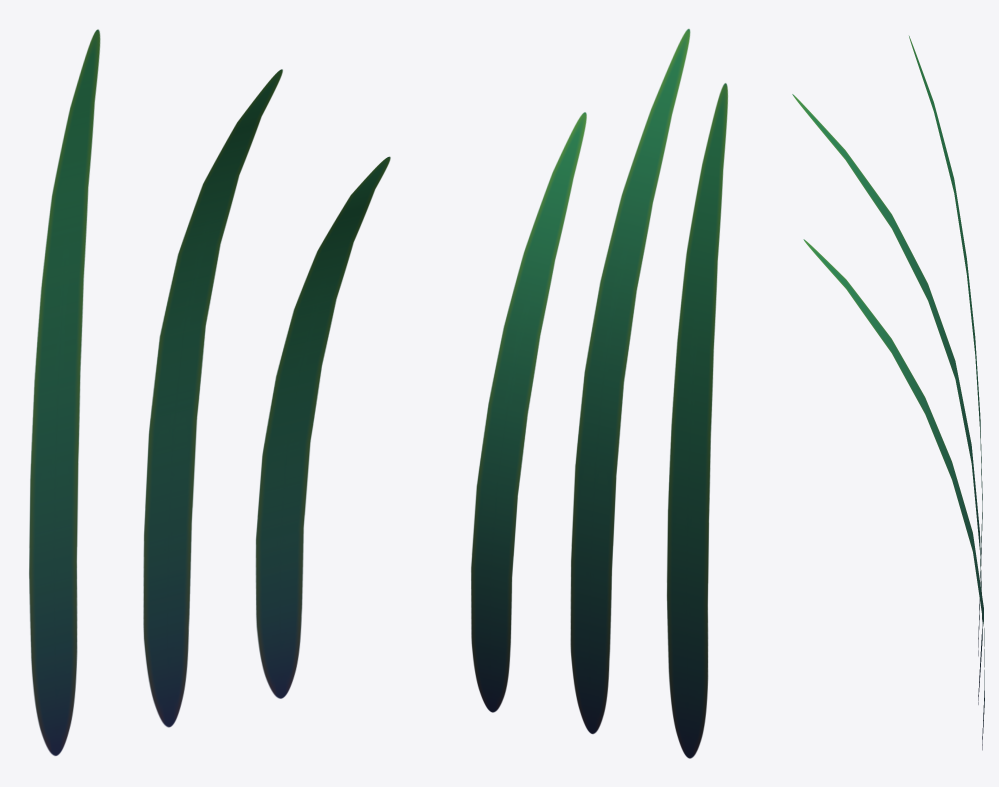
Rendered from grass_b.glb.
3 renders of one model, left to right at view 1: azimuth 30°, elevation 25°; view 2: azimuth 150°, elevation 25°; view 3: azimuth 270°, elevation 25°, orthographic. The views are drawn at different scales.
Parts seen in each view (by area): view 1: Grass:Grass_low2_Grass:Grass_MAT_0; view 2: Grass:Grass_low2_Grass:Grass_MAT_0; view 3: Grass:Grass_low2_Grass:Grass_MAT_0.
Boxes of the visible parts, x1,y1,x2,y2 form: Grass:Grass_low2_Grass:Grass_MAT_0: (29,29,390,755); Grass:Grass_low2_Grass:Grass_MAT_0: (471,29,727,758); Grass:Grass_low2_Grass:Grass_MAT_0: (792,36,984,750).
Size of the model in its own units: 0.1662 by 0.4025 by 0.1128.
1 material, 1 textured.
